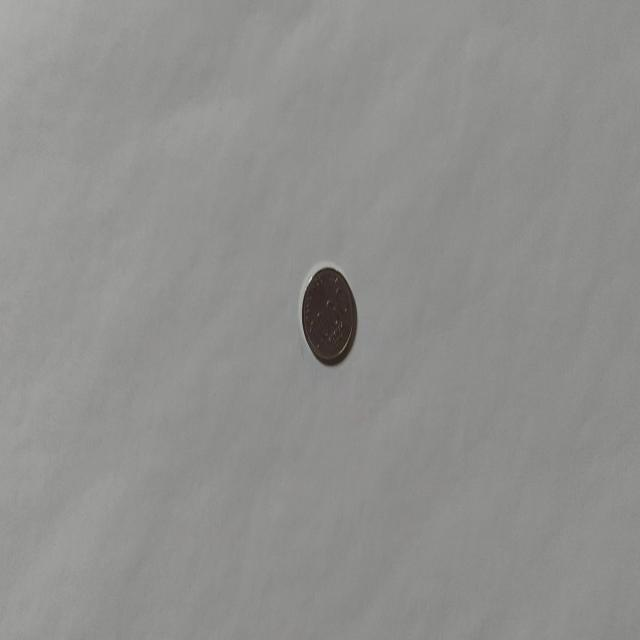seribu rupiah koin: (299, 263, 357, 365)
